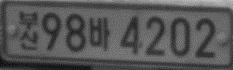0: (169, 16, 190, 57)
2: (194, 17, 215, 58), (144, 16, 165, 55)
4: (119, 15, 141, 53)
8: (65, 12, 85, 52)
9: (41, 12, 61, 50)
바: (89, 16, 109, 50)
부산_V: (19, 10, 39, 51)
